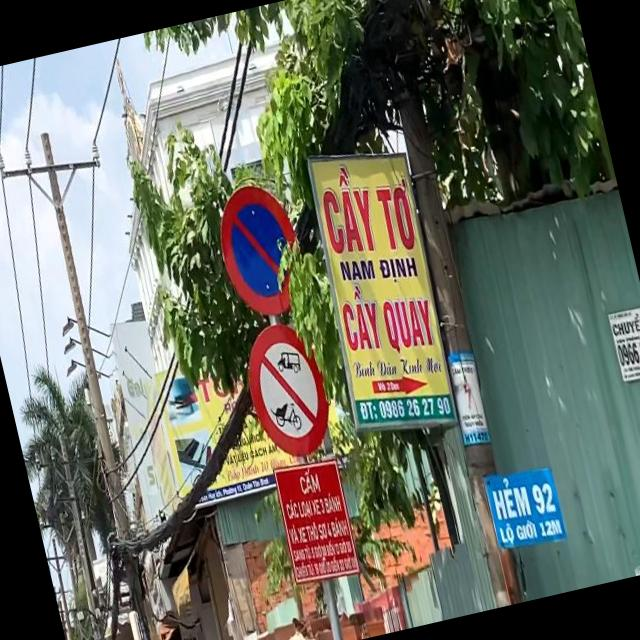P-131a: (208, 176, 310, 322)
